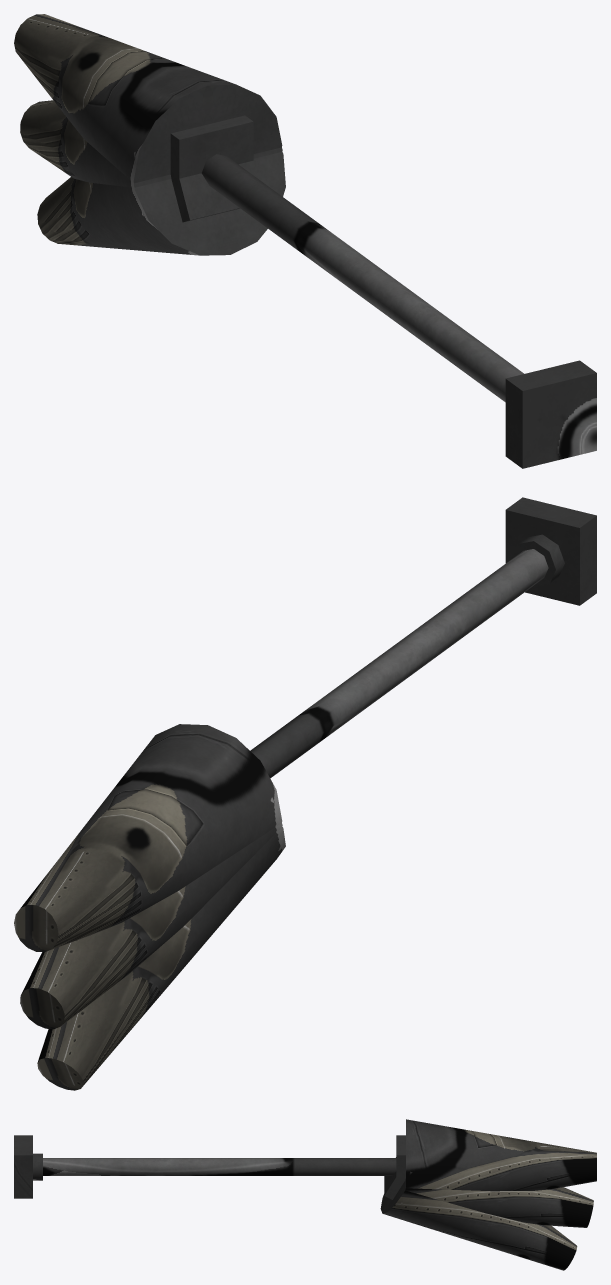
File: cone_antenna.fbx
3 views of the same model, one above another, from view 1: azimuth 30°, elevation 25°; view 2: azimuth 150°, elevation 25°; view 3: azimuth 270°, elevation 25° (orthographic). The views are drawn at different scales.
Parts seen in each view (by area): view 1: mesh_0, mesh_30, mesh_15; view 2: mesh_0, mesh_30, mesh_15; view 3: mesh_0, mesh_30, mesh_15.
Boxes of the visible parts, box(x1,y1,x2,y2) form: mesh_0: box(14, 14, 596, 468); mesh_30: box(37, 146, 285, 255); mesh_15: box(20, 100, 282, 218); mesh_0: box(14, 497, 596, 952); mesh_30: box(37, 827, 285, 1090); mesh_15: box(20, 797, 282, 1029); mesh_0: box(14, 1119, 596, 1198); mesh_30: box(380, 1157, 577, 1270); mesh_15: box(390, 1156, 593, 1227).
Size of the model in its own units: 0.125 by 0.21 by 0.7625.
